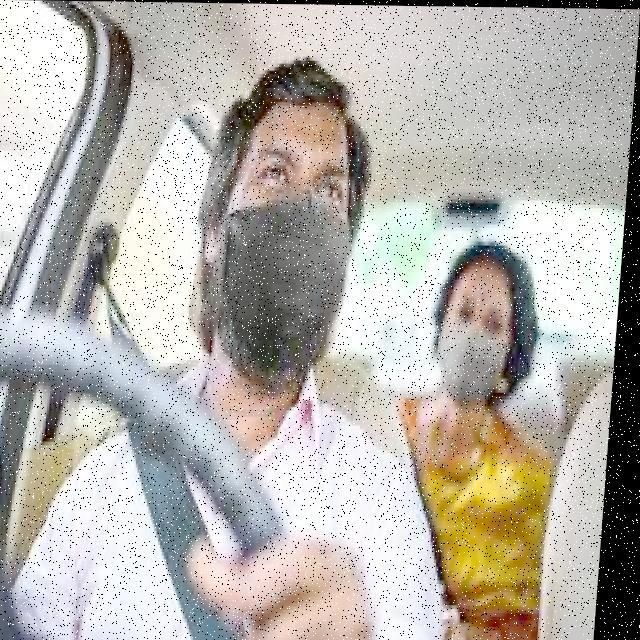seatbelt: (77, 399, 410, 640)
